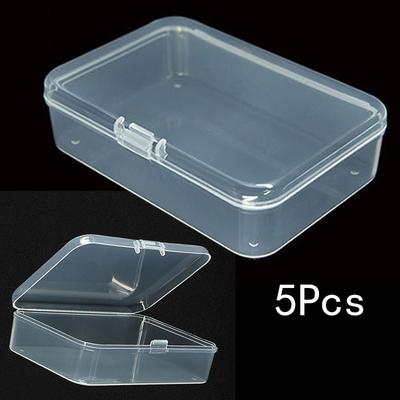PlasticBox: (40, 14, 390, 262)
